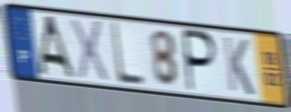8: (148, 28, 180, 88)
A: (36, 14, 78, 82)
K: (221, 34, 256, 98)
L: (109, 20, 146, 89)
P: (182, 27, 219, 95)
X: (69, 16, 110, 85)
